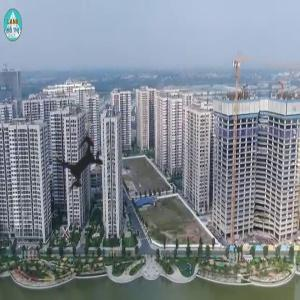drone: (27, 106, 138, 217)
